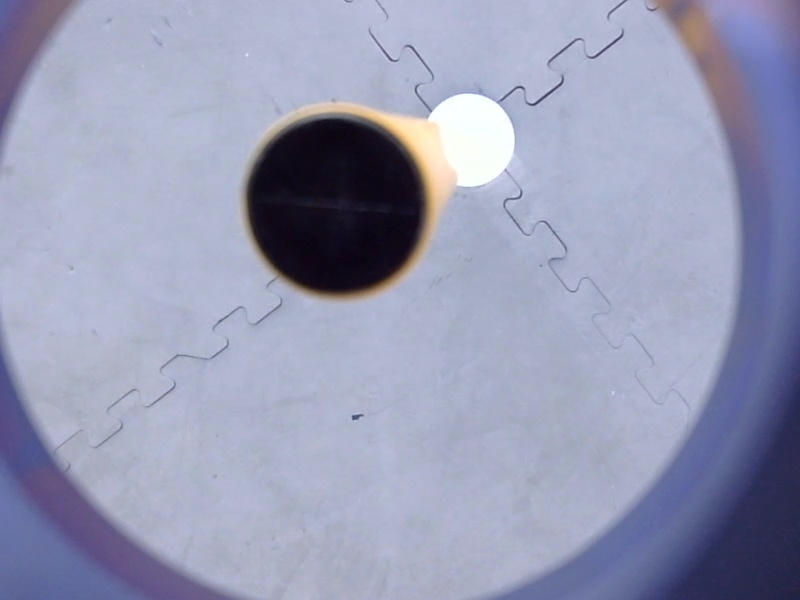tip: (231, 96, 442, 310)
